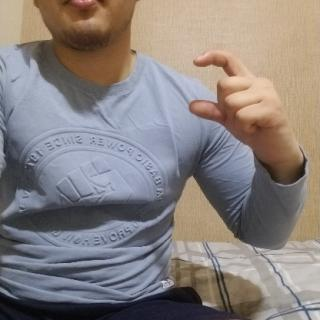DELL: (187, 46, 306, 169)
